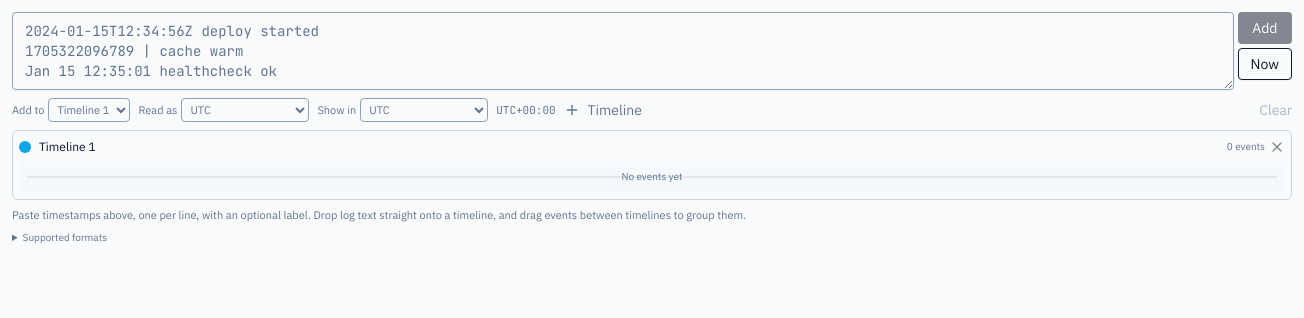
Test: TimelineBuilderWidget › adds a pasted timestamp with its label
Select "UTC" in the dropdown named "display time zone" at x=424, y=110, box [360,98,488,122]
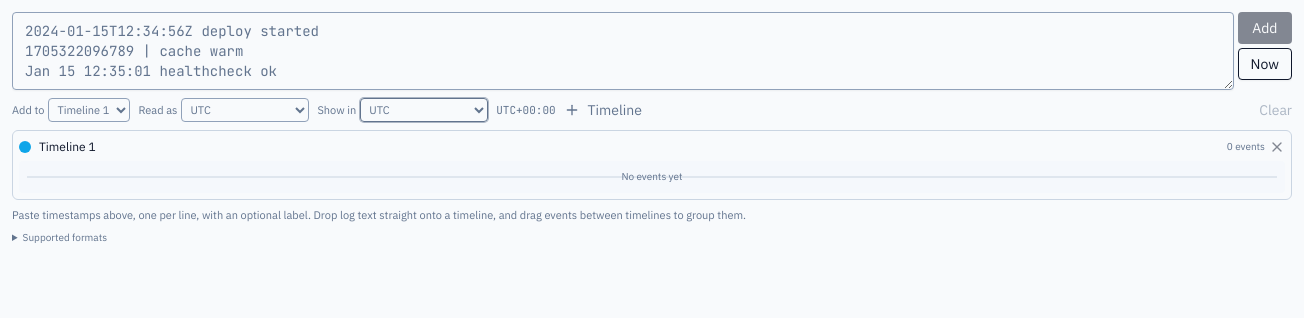
Select "UTC" in the dropdown named "input time zone" at x=245, y=110, box [181,98,309,122]
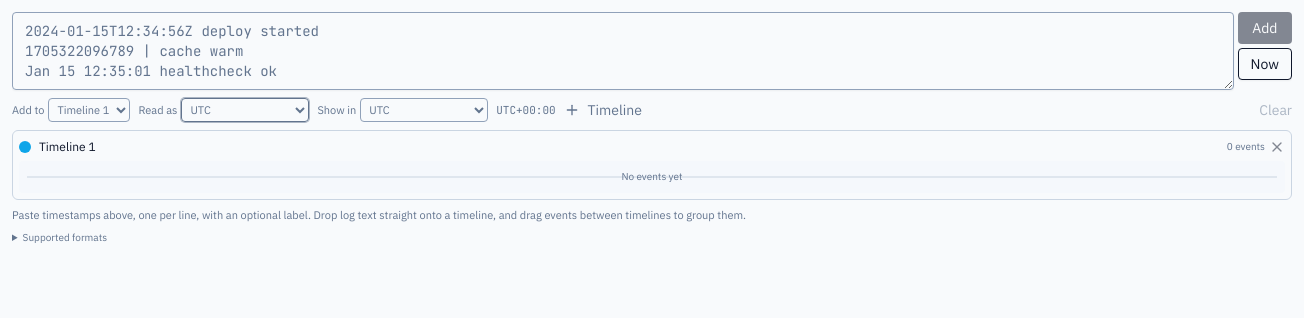
Replace the text in the text box named "timestamps to add" with "2024-01-15T12:34:56Z deploy started" at x=623, y=51, box [12,12,1234,90]
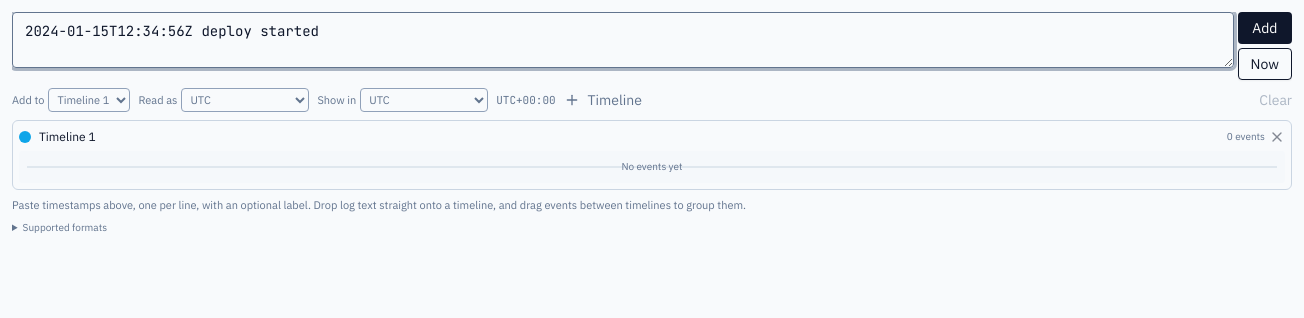
Click the button "Add".
click(1265, 28)  # box [1238,12,1292,44]
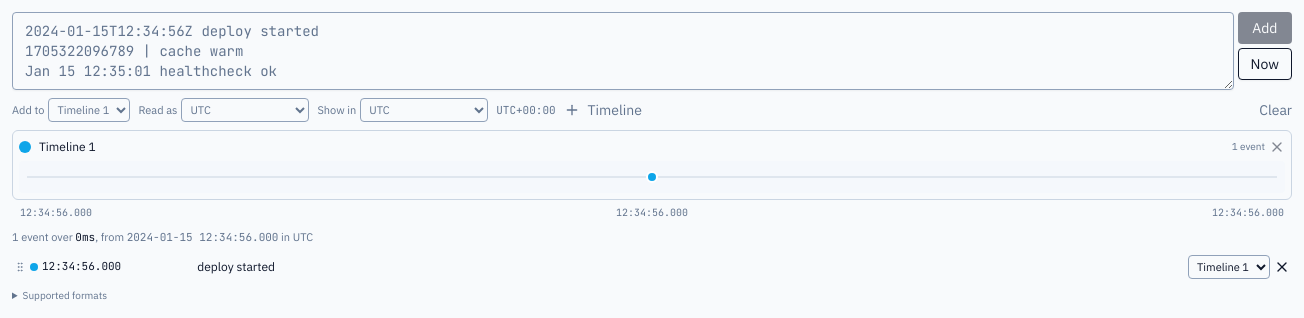
Check: the field named "label for event at 12:34:56" holds "deploy started", box [193,257,1184,277]
Check: the text "1 event over 0ms, from 2024-01-15 12:34:56.000 in UTC" is shown, box [12,230,313,244]
